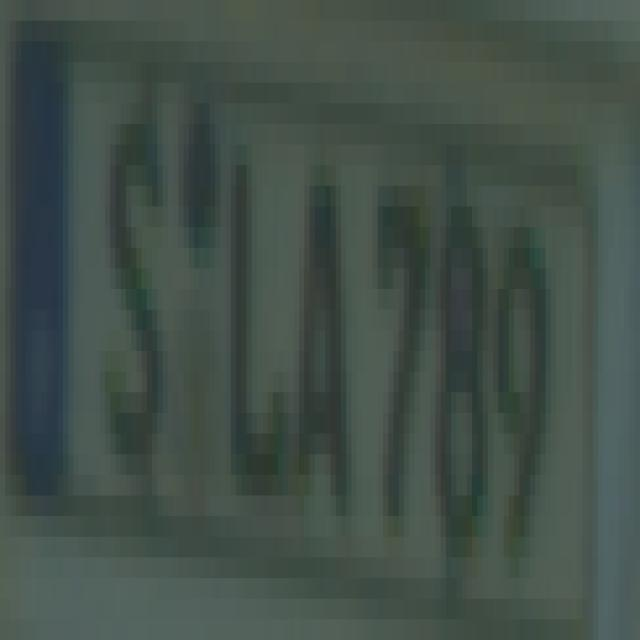Autre: (12, 25, 601, 619)
